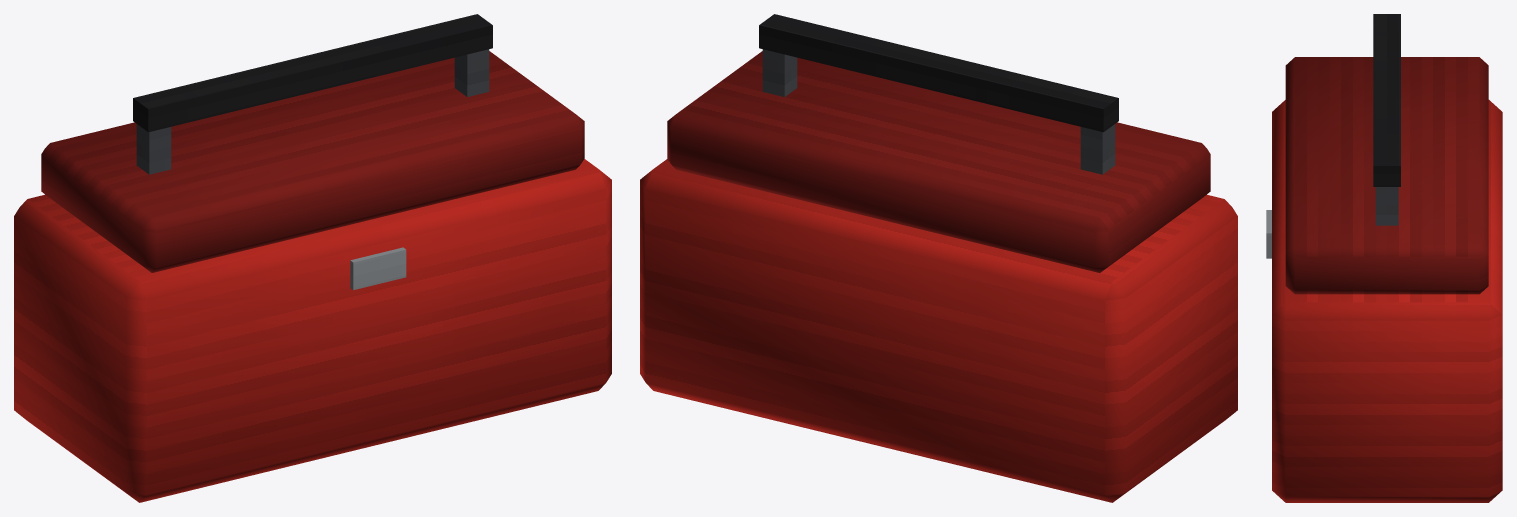
Rendered from caixa_ferramentas.glb.
3 renders of one model, left to right at view 1: azimuth 30°, elevation 25°; view 2: azimuth 150°, elevation 25°; view 3: azimuth 270°, elevation 25°, orthographic. The views are drawn at different scales.
Parts seen in each view (by area): view 1: Inteiro; view 2: Inteiro; view 3: Inteiro.
Boxes of the visible parts, x1,y1,x2,y2 form: Inteiro: [14, 14, 611, 502]; Inteiro: [640, 14, 1237, 502]; Inteiro: [1266, 14, 1502, 502].
Size of the model in its own units: 0.55 by 0.3725 by 0.256.
Materials: 1 (1 with a texture image).
